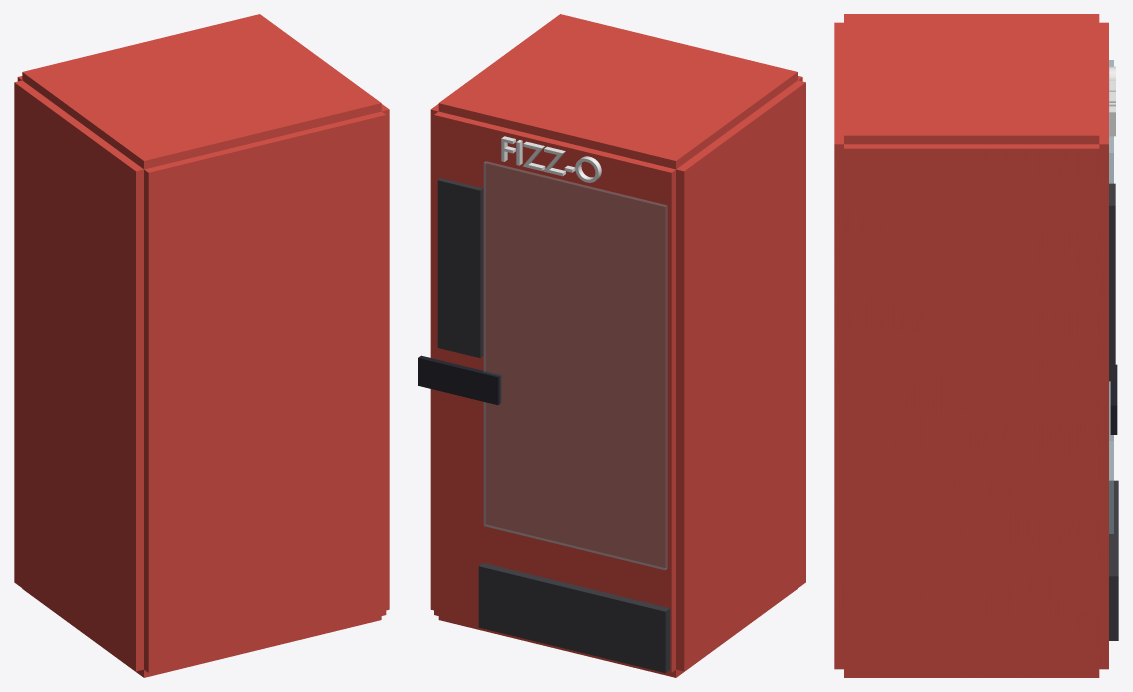
The model's file is vending_machine.glb.
3 views of the same model, side by side, from view 1: azimuth 30°, elevation 25°; view 2: azimuth 150°, elevation 25°; view 3: azimuth 270°, elevation 25° (orthographic). The views are drawn at different scales.
Parts seen in each view (by area): view 1: vending_machine; view 2: vending_machine; view 3: vending_machine.
Boxes of the visible parts, x1,y1,x2,y2 form: vending_machine: (14,14,389,677); vending_machine: (418,14,805,677); vending_machine: (834,14,1118,677).
Bounding box in the file's own units: 0.965 × 1.85 × 0.88.
